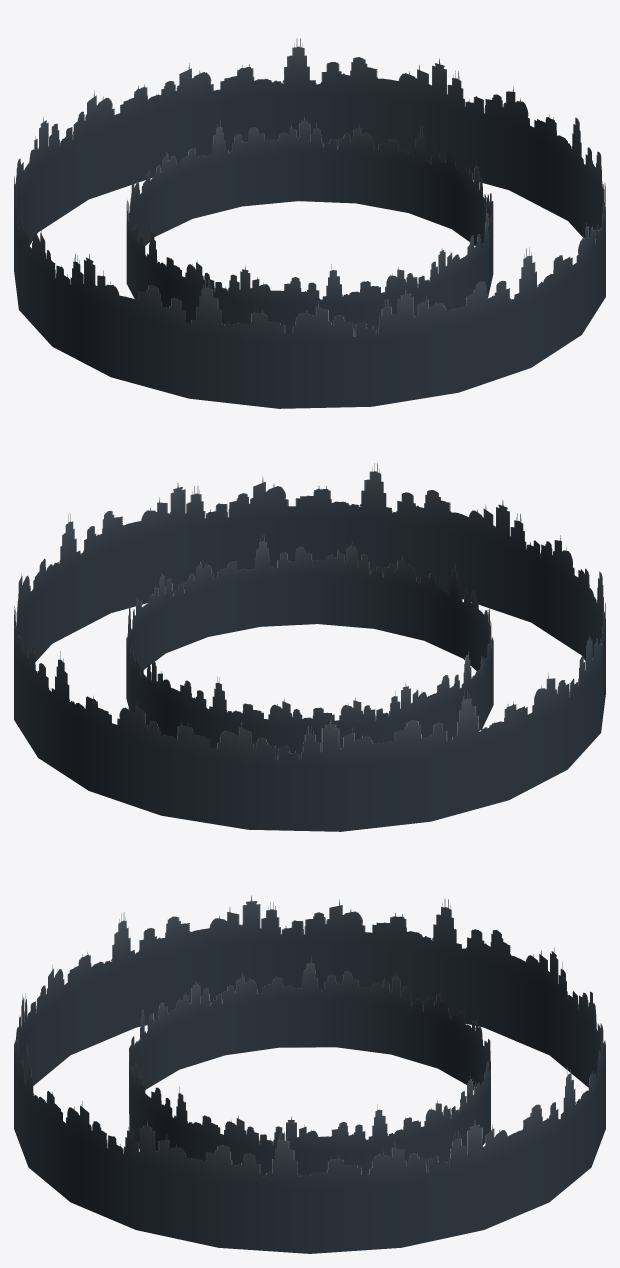
Rendered from SkylineAlpha.fbx.
3 renders of one model, top to bottom at view 1: azimuth 30°, elevation 25°; view 2: azimuth 150°, elevation 25°; view 3: azimuth 270°, elevation 25°, orthographic.
Visible parts, largest first — view 1: pCylinder1, pCylinder2; view 2: pCylinder1, pCylinder2; view 3: pCylinder1, pCylinder2.
Part boxes in pixels (x1,y1,x2,y2): pCylinder1: [14, 38, 605, 408]; pCylinder2: [126, 117, 493, 336]; pCylinder1: [14, 463, 605, 831]; pCylinder2: [126, 535, 493, 759]; pCylinder1: [14, 895, 605, 1253]; pCylinder2: [129, 957, 490, 1176].
Bounding box in the file's own units: 32.34 × 8.67 × 32.34.
